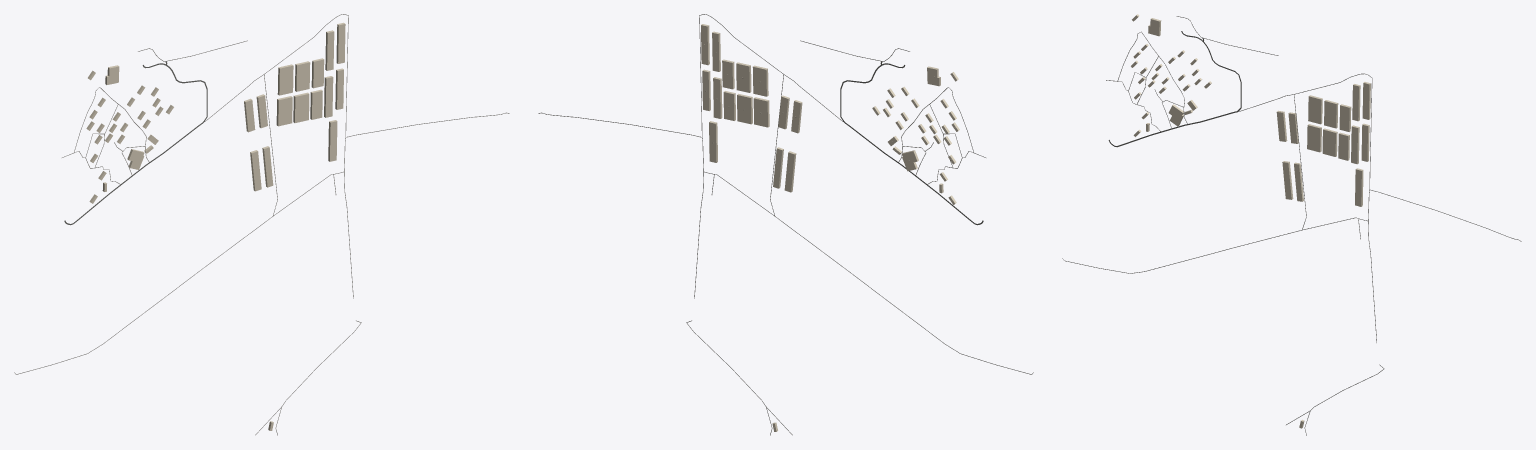
File: historic-palestine-07_26_3491_3203.glb
3 views of the same model, side by side, from view 1: azimuth 30°, elevation 25°; view 2: azimuth 150°, elevation 25°; view 3: azimuth 330°, elevation 25° (orthographic). The views are drawn at different scales.
Parts seen in each view (by area): view 1: Road .011; view 2: Road .011; view 3: Road .011.
Part boxes in pixels (box(x1,y1,x2,y2)): Road .011: box(64, 63, 207, 225); Road .011: box(840, 63, 983, 225); Road .011: box(1108, 31, 1241, 147).
Bounding box in the file's own units: 1330 × 1075 × 8.7.
